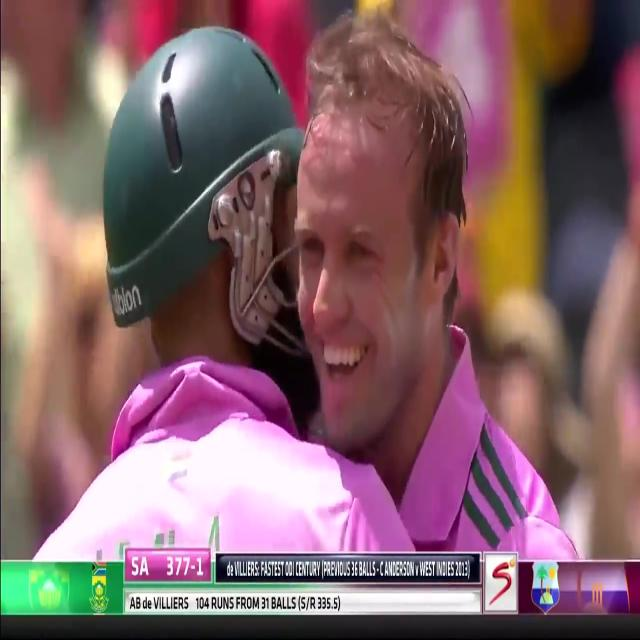Ball: (74, 30, 365, 558)
